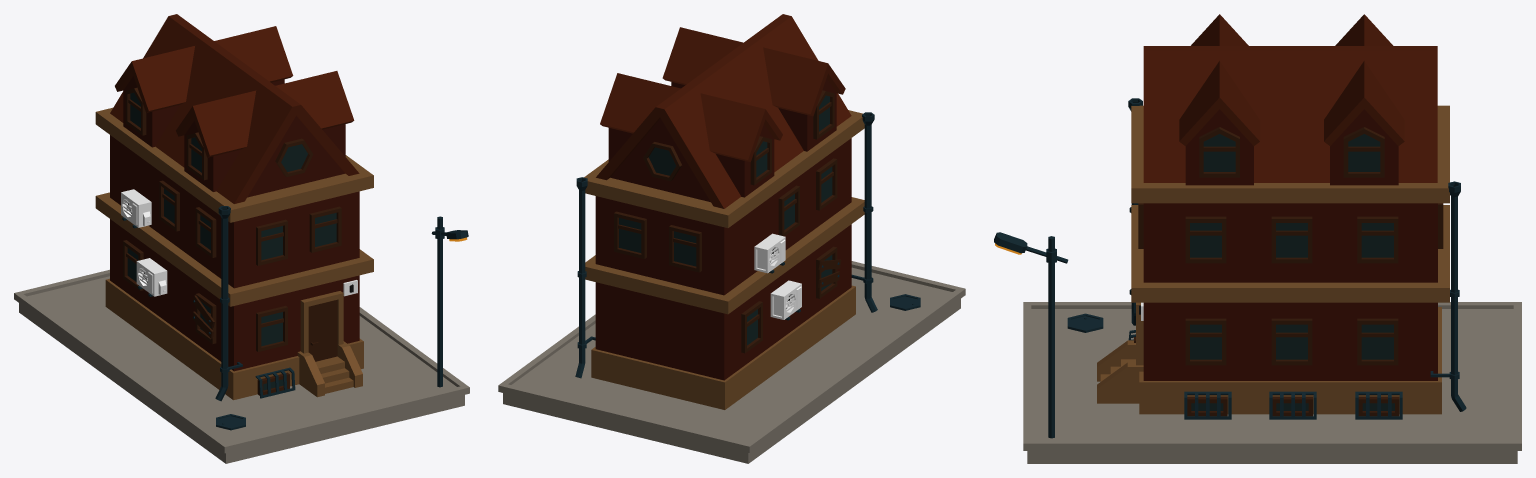
File: SF_House01.fbx
3 views of the same model, side by side, from view 1: azimuth 30°, elevation 25°; view 2: azimuth 150°, elevation 25°; view 3: azimuth 270°, elevation 25° (orthographic). The views are drawn at different scales.
Visible parts, largest first — view 1: Plane091, Box15826, Group654, Box15824, Box15853, Rectangle022, Box15825, Box15829, Box15854, Object330, StraightStair011, Box15827 (+17 smaller); view 2: Plane091, Box15826, Box15853, Box15824, Group654, Box15829, Rectangle022, Box15825, Box15854, Object330, Box15834, Cylinder1703 (+13 smaller); view 3: Plane091, Box15826, Box15824, Box15853, Rectangle022, Object330, Group654, Box15825, Box15854, Box15829, StraightStair011, Box15828 (+15 smaller).
Part boxes in pixels (x1,y1,x2,y2): Plane091: [19, 276, 464, 463]; Box15826: [110, 14, 359, 203]; Group654: [115, 26, 354, 157]; Box15824: [110, 135, 359, 288]; Box15853: [110, 219, 359, 371]; Rectangle022: [14, 269, 469, 453]; Box15825: [95, 107, 373, 222]; Box15829: [105, 278, 363, 400]; Box15854: [95, 192, 373, 306]; Object330: [127, 92, 336, 390]; StraightStair011: [297, 341, 362, 397]; Box15827: [308, 299, 337, 361]; Plane091: [503, 267, 960, 463]; Box15826: [596, 14, 851, 208]; Box15853: [595, 224, 851, 380]; Box15824: [595, 138, 851, 295]; Group654: [600, 27, 845, 162]; Box15829: [591, 285, 855, 409]; Rectangle022: [498, 261, 965, 452]; Box15825: [584, 110, 864, 227]; Box15854: [585, 197, 864, 314]; Object330: [619, 95, 832, 345]; Box15834: [608, 124, 774, 197]; Cylinder1703: [862, 112, 877, 312]; Plane091: [1027, 309, 1517, 463]; Box15826: [1143, 46, 1437, 182]; Box15824: [1143, 203, 1437, 282]; Box15853: [1143, 302, 1437, 380]; Rectangle022: [1023, 302, 1521, 450]; Object330: [1190, 134, 1394, 410]; Group654: [1179, 14, 1404, 145]; Box15825: [1131, 105, 1449, 203]; Box15854: [1131, 205, 1449, 302]; Box15829: [1139, 307, 1441, 414]; StraightStair011: [1097, 340, 1143, 403]; Box15828: [1185, 109, 1253, 185].
Bounding box in the file's own units: 820 × 936 × 1291.
